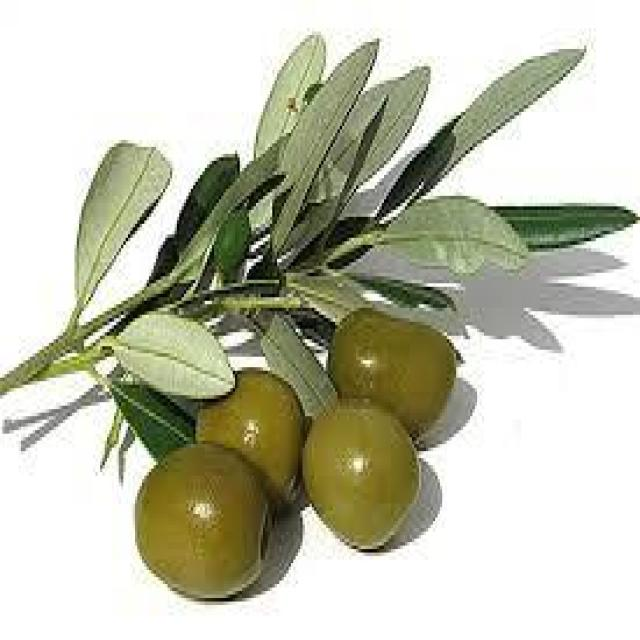Healthy: (137, 448, 277, 605), (70, 143, 175, 325), (326, 304, 458, 443), (305, 399, 419, 546), (105, 311, 233, 398)
